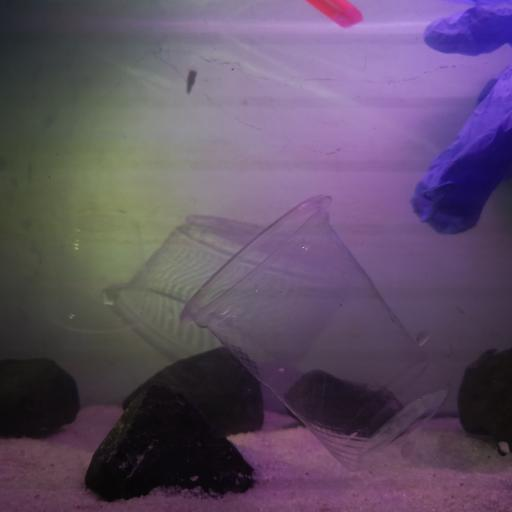glove: (413, 0, 512, 240)
plastic_cup: (186, 195, 450, 467), (44, 213, 158, 334)
plastic_straw: (303, 0, 363, 33)
